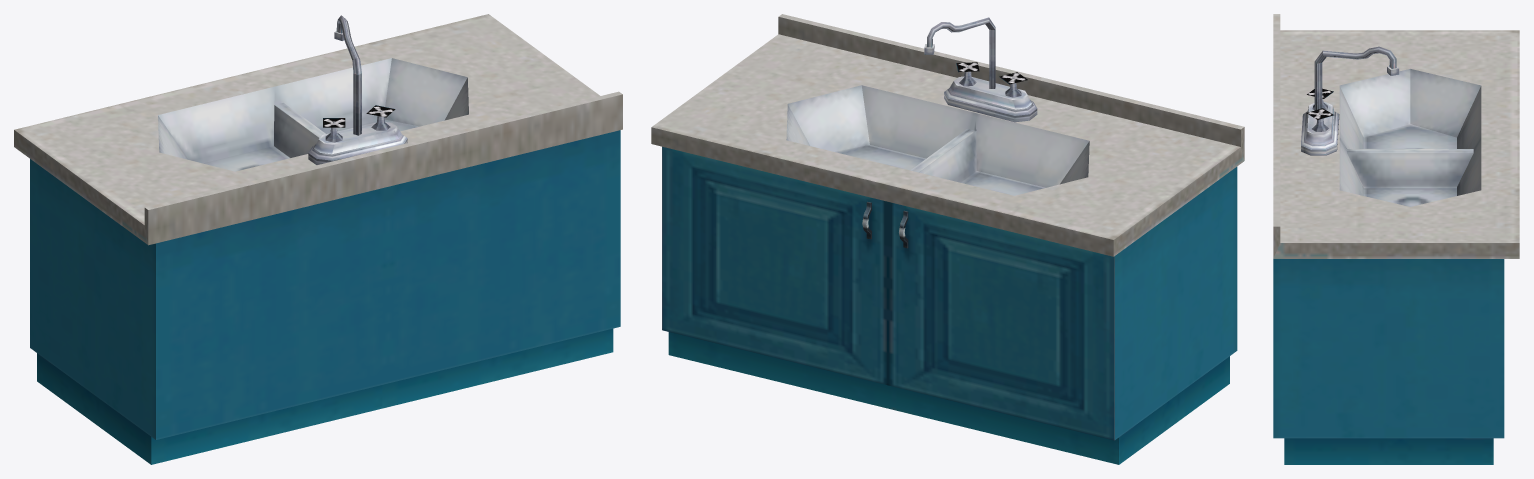
The model's file is furni_0200052_02.FBX.
The picture shows the model from 3 angles, left to right: view 1: azimuth 30°, elevation 25°; view 2: azimuth 150°, elevation 25°; view 3: azimuth 270°, elevation 25°; orthographic projection. The views are drawn at different scales.
Visible parts, largest first — view 1: furni_0200052; view 2: furni_0200052; view 3: furni_0200052.
Boxes of the visible parts, x1=… form: furni_0200052: x1=14, y1=14, x2=622, y2=464; furni_0200052: x1=651, y1=14, x2=1244, y2=464; furni_0200052: x1=1273, y1=14, x2=1519, y2=464.
Size of the model in its own units: 163 by 115 by 80.
Materials: 1 (1 with a texture image).
